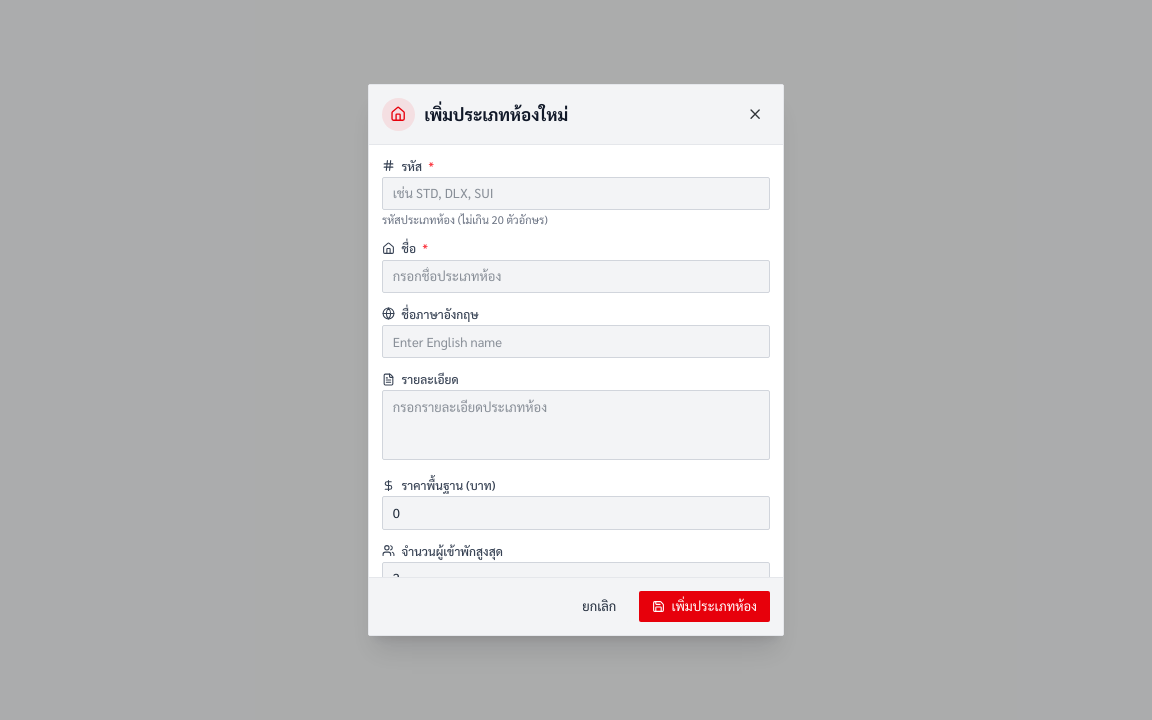
Test: RoomTypeForm Component › Form Validation › shows error when base price is negative
The width and height of the screenshot is (1152, 720).
In the field with placeholder "เช่น STD, DLX, SUI": point(576, 194) x1=382 y1=177 x2=770 y2=210, type "STD"
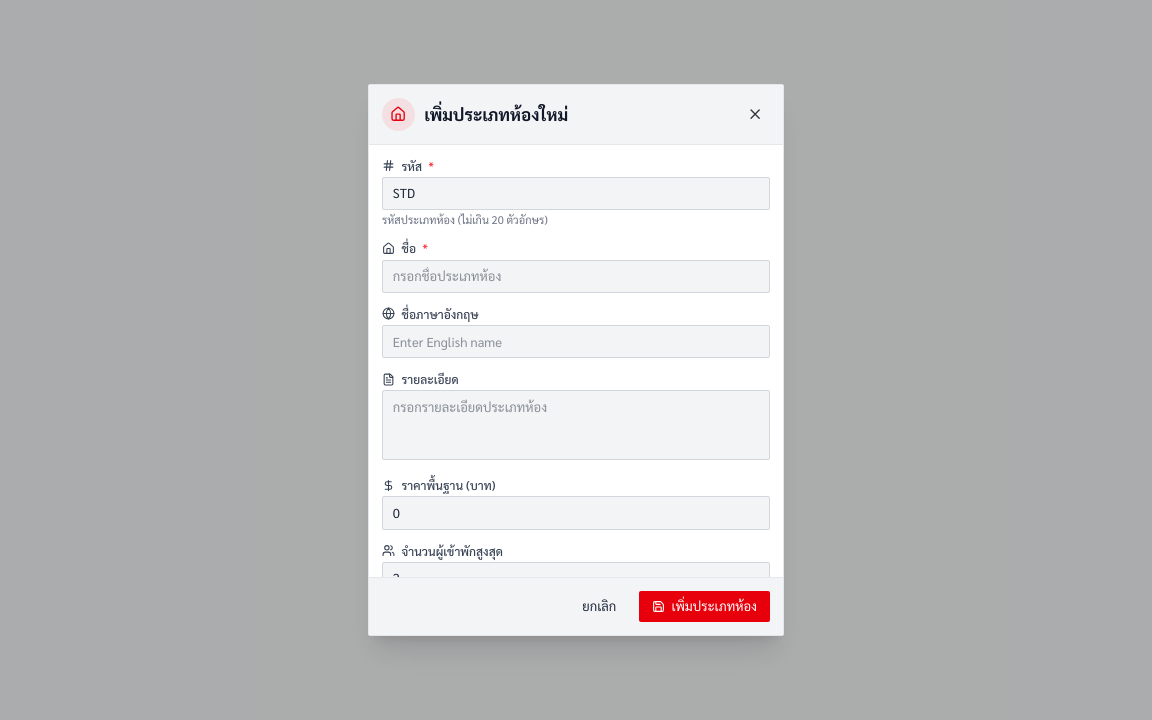
In the field with placeholder "กรอกชื่อประเภทห้อง": point(576, 276) x1=382 y1=260 x2=770 y2=293, type "Standard"
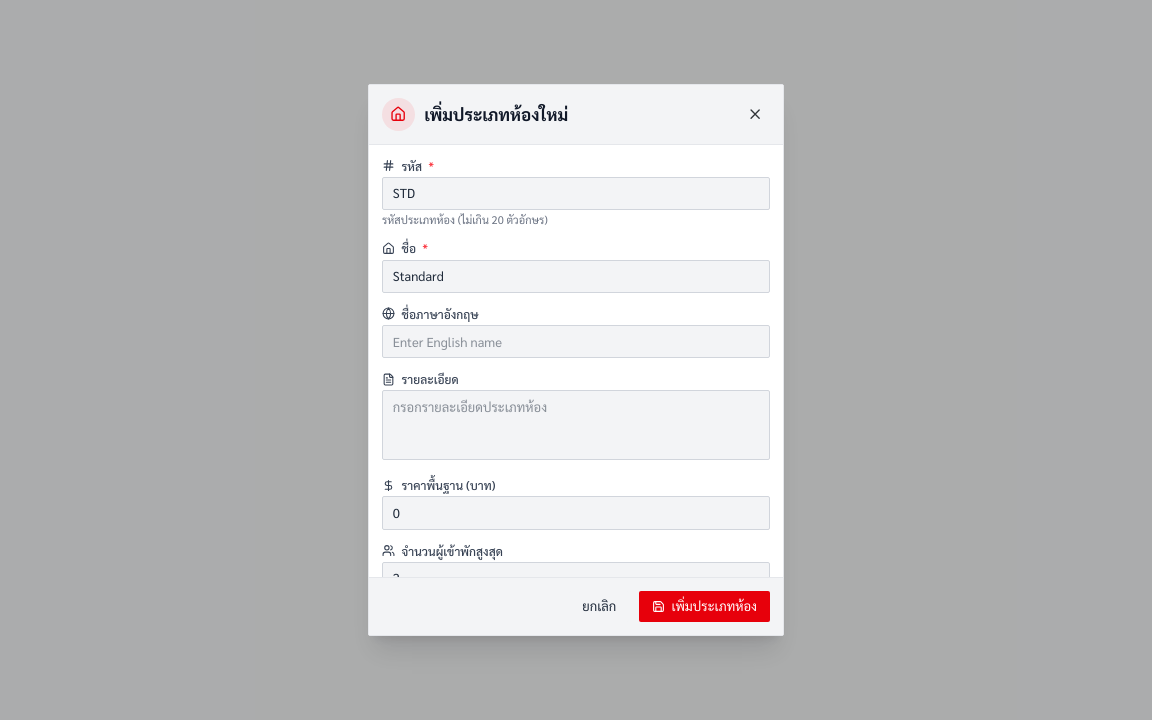
In the number field named "basePrice": point(576, 513) x1=382 y1=496 x2=770 y2=530, type "-100"
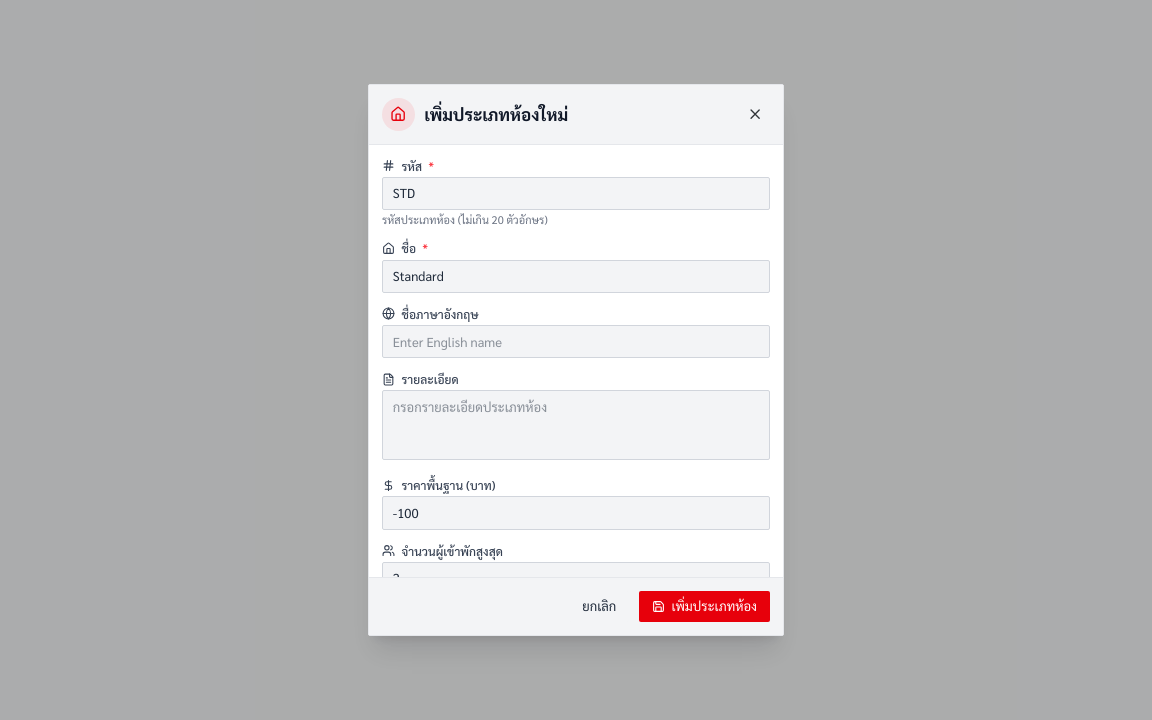
Submit the form, box x1=369 y1=145 x2=783 y2=635
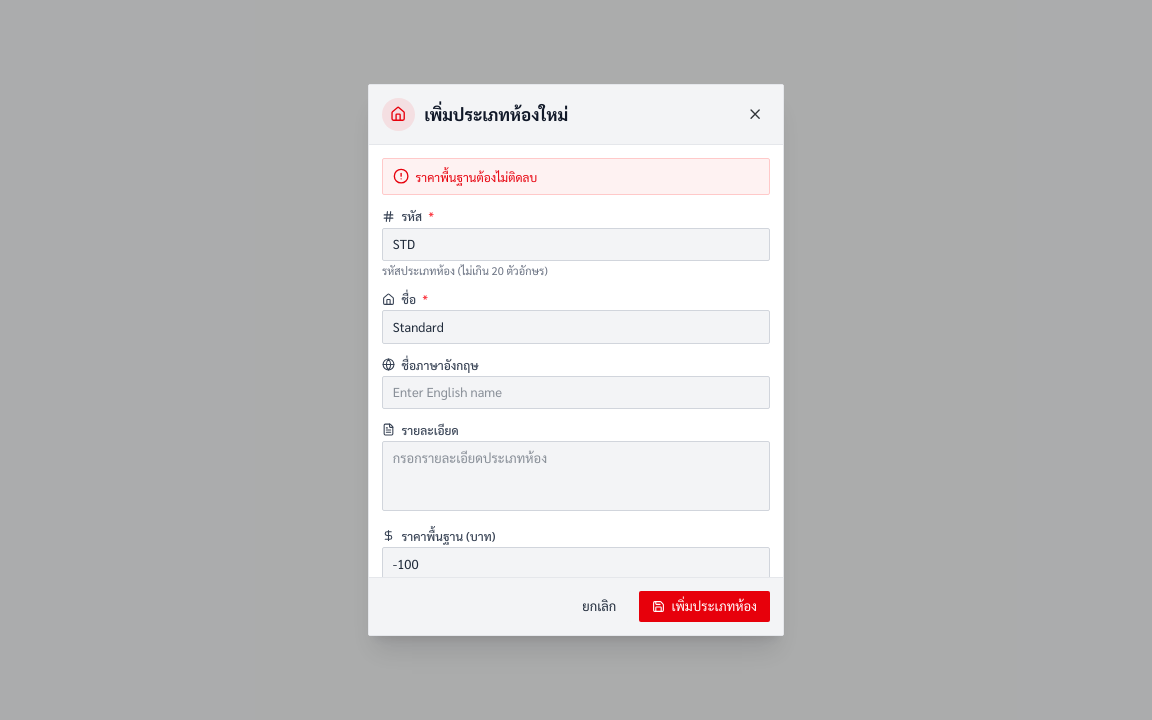
Check: the text "ราคาพื้นฐานต้องไม่ติดลบ" is shown, box x1=416 y1=168 x2=537 y2=184
